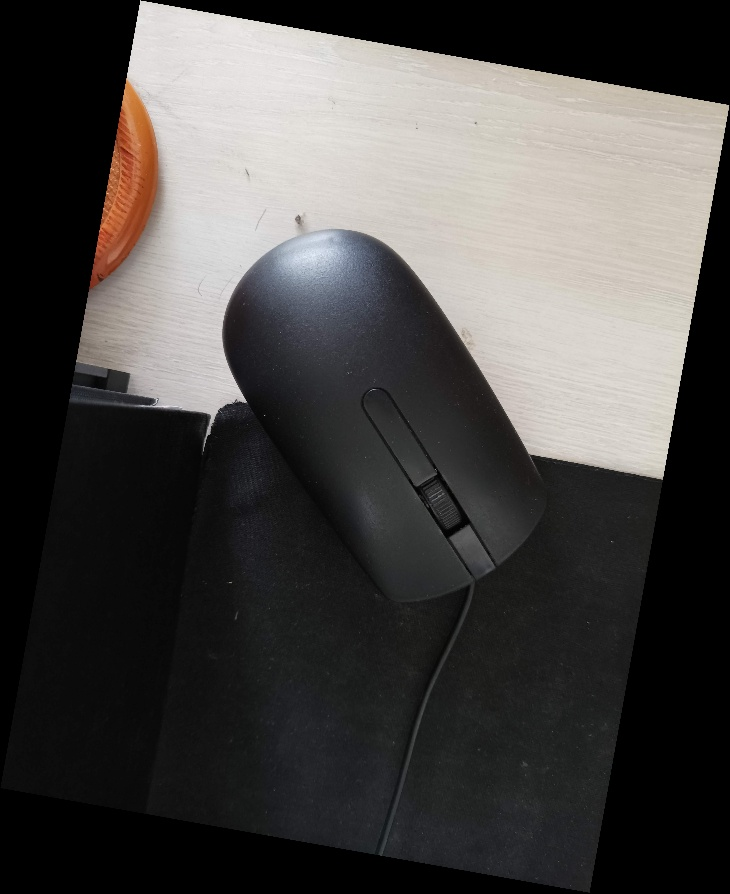mouse: (216, 224, 553, 609)
